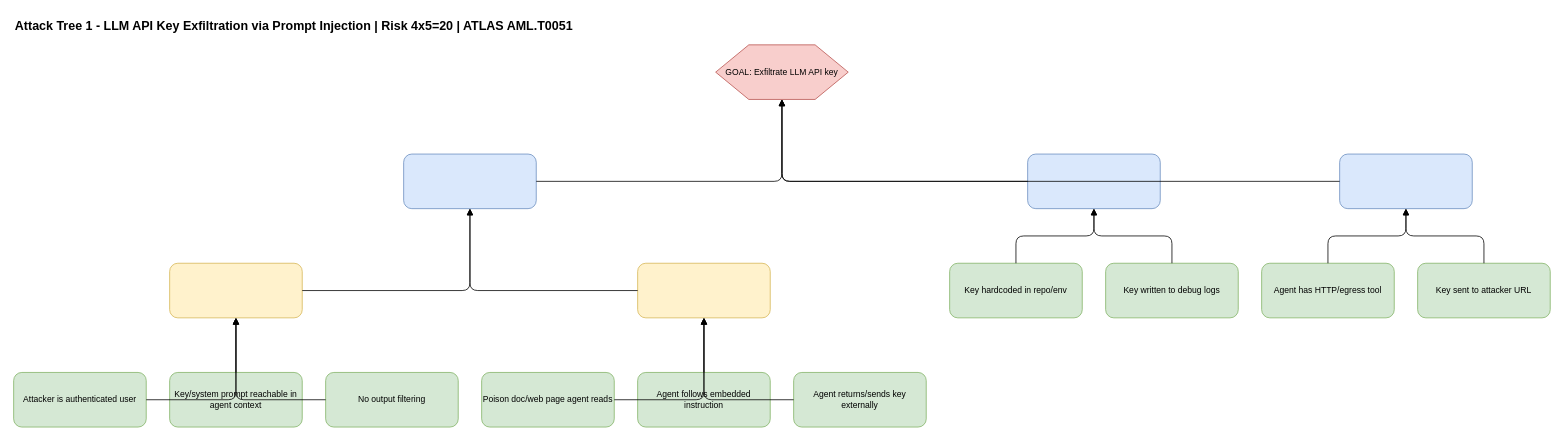
This 1564x441 diagram has some shape labels left out. The centre of each missing label's shape, as x and y in pixels:
"AND: Direct injection" goes at pixel 235 290.
"AND: Indirect injection" goes at pixel 703 290.
"OR: Via misconfiguration" goes at pixel 1093 181.
"OR: Via prompt injection" goes at pixel 469 181.
"OR: Via tool abuse" goes at pixel 1405 181.
